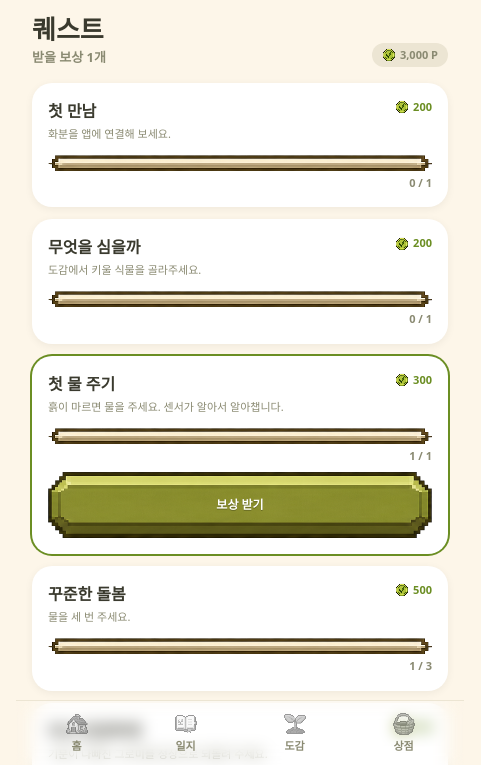
it: 퀘스트 › 보상을 받으면 상점 포인트가 늘어난다
What coordinates should you click on to do the following:
click the button "보상 받기"
I would click on:
 (240, 505)
Its box is left=48, top=472, right=432, bottom=538.
Wait 50 ms
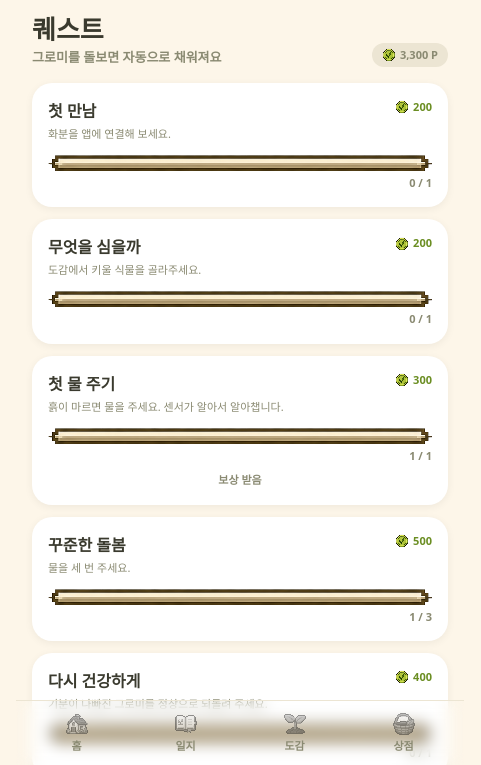
Expected: the text "보상 받음" is shown, left=218, top=472, right=262, bottom=487
